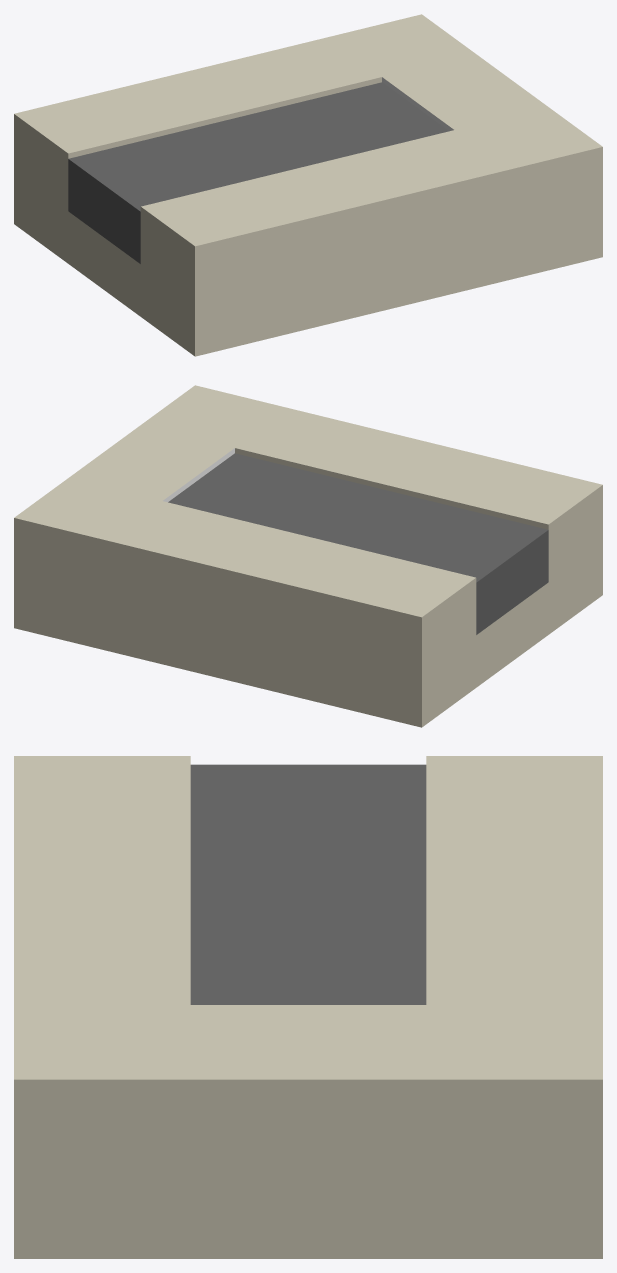
Rendered from tile108.fbx.
The picture shows the model from 3 angles, top to bottom: view 1: azimuth 30°, elevation 25°; view 2: azimuth 150°, elevation 25°; view 3: azimuth 270°, elevation 25°; orthographic projection. The views are drawn at different scales.
Visible parts, largest first — view 1: tile108; view 2: tile108; view 3: tile108.
Boxes of the visible parts, bbox=[...] form: tile108: bbox=[14, 14, 602, 356]; tile108: bbox=[14, 385, 602, 727]; tile108: bbox=[14, 756, 602, 1258].
Bounding box in the file's own units: 8.12 × 2.1 × 6.25.
